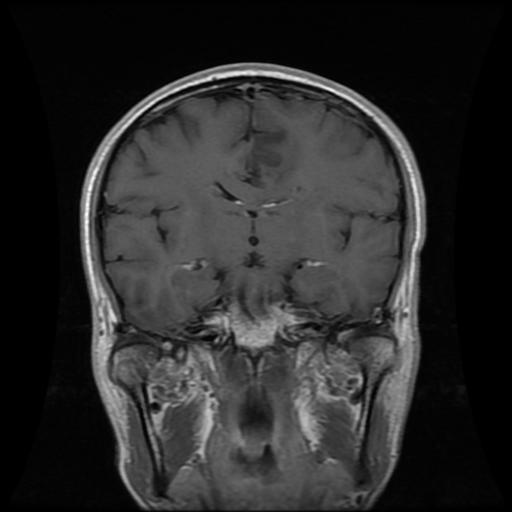Gliomia_tumour: (249, 128, 286, 176)
